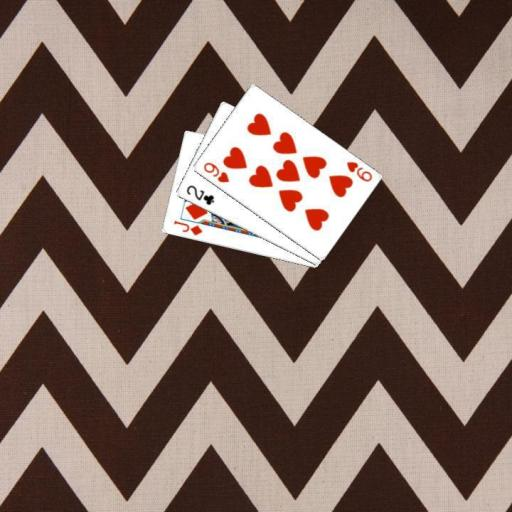card-corner: (183, 182, 215, 207), (343, 158, 373, 184), (200, 159, 230, 184), (170, 217, 203, 237)
